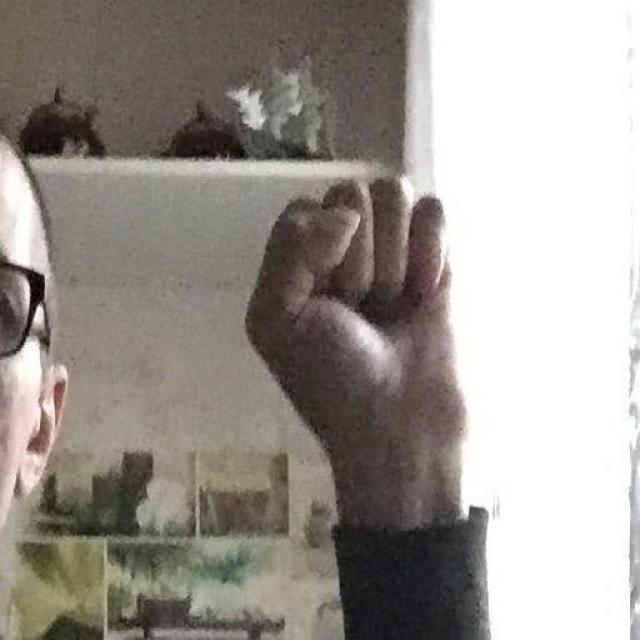hand: (242, 173, 468, 531)
